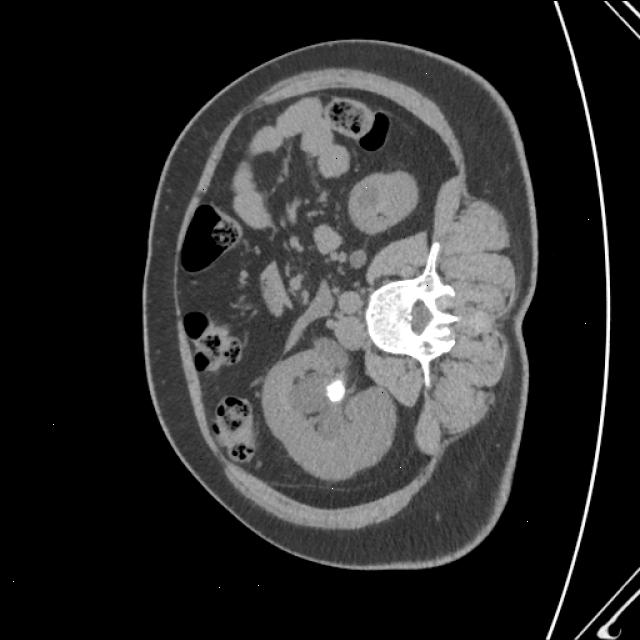kidneystone: (326, 379, 346, 401)
